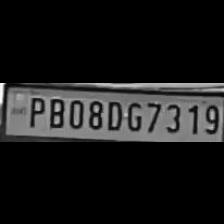0: (65, 96, 84, 128)
1: (182, 100, 200, 134)
3: (161, 99, 181, 134)
7: (144, 98, 162, 134)
8: (86, 95, 104, 129)
9: (200, 100, 220, 134)
B: (46, 94, 64, 128)
D: (104, 97, 122, 131)
G: (124, 98, 142, 132)
P: (24, 94, 44, 128)
